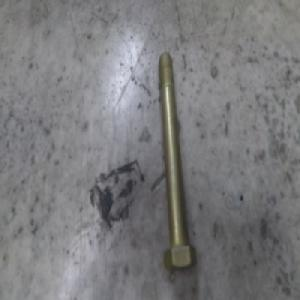Bolt: (157, 47, 196, 268)
